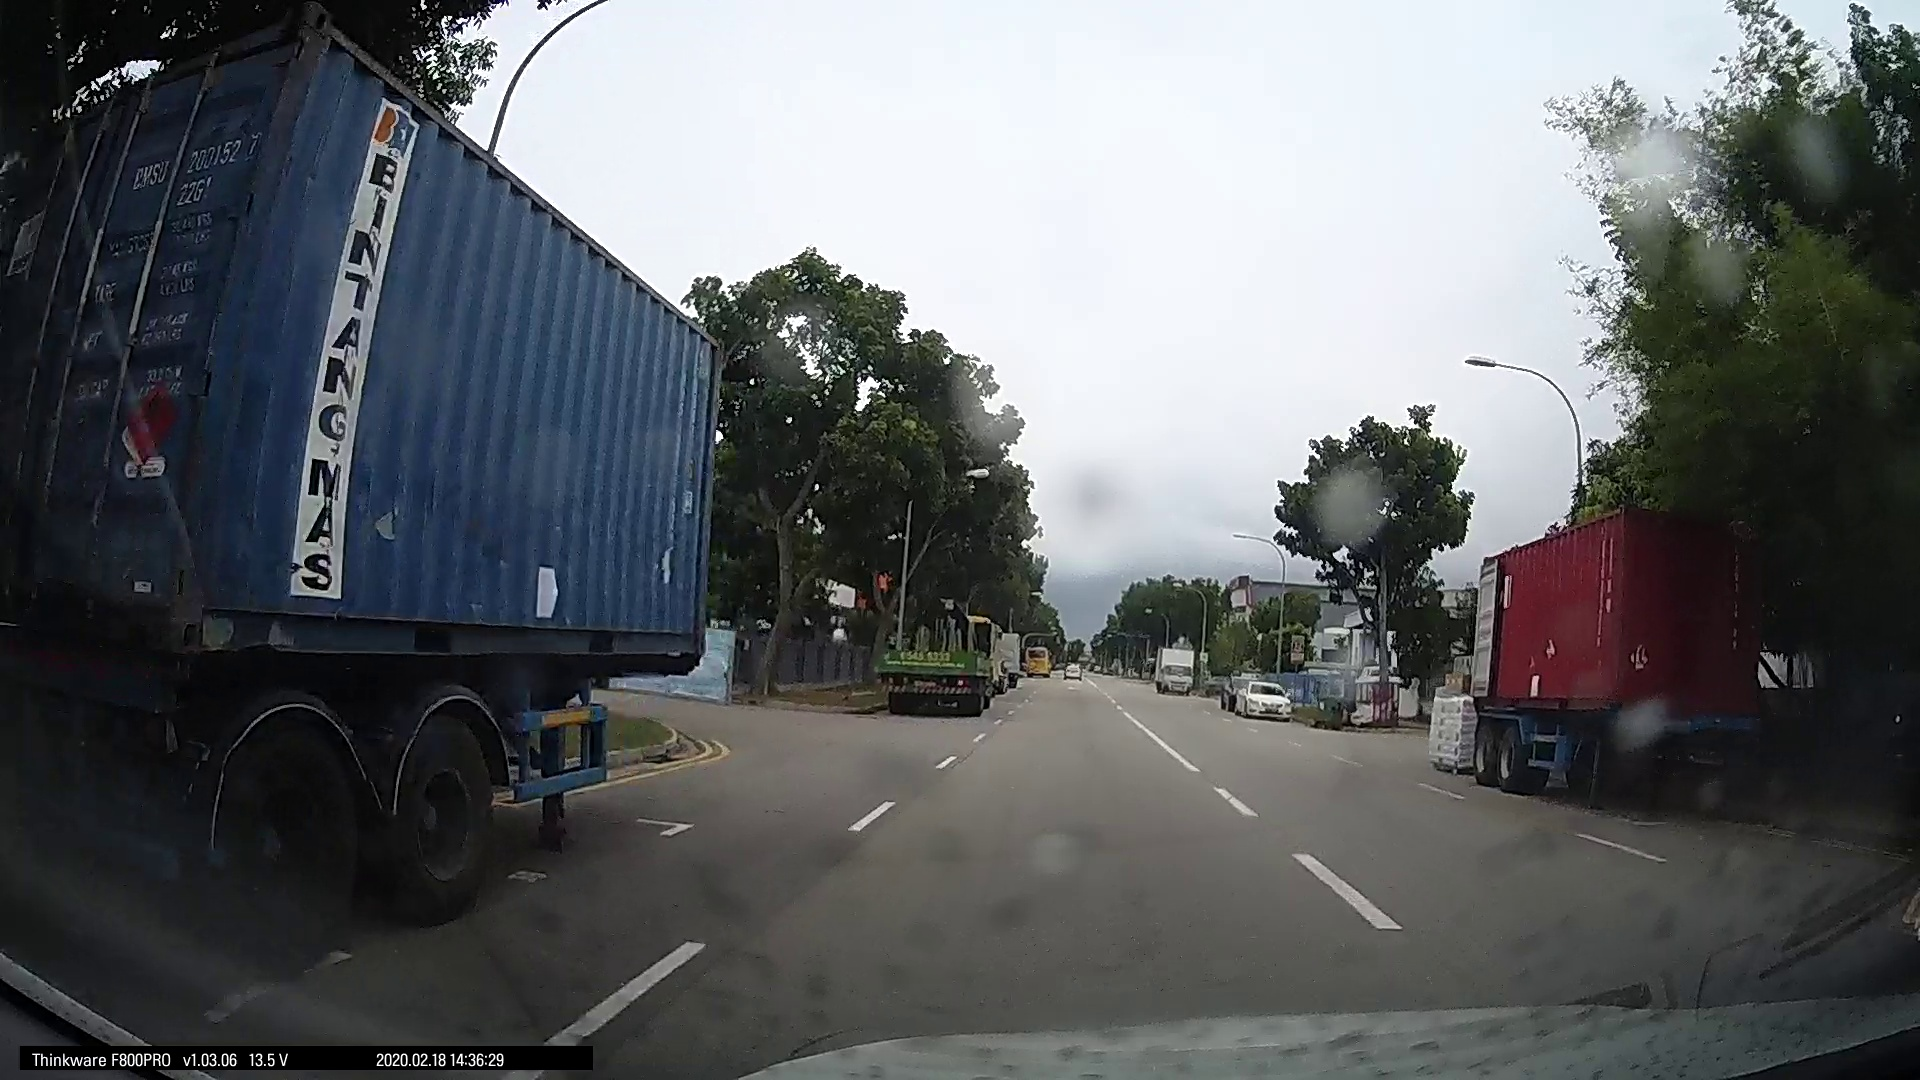Heavy Vehicle: (11, 29, 705, 947), (1451, 489, 1821, 798)
Light Vehicle: (1222, 670, 1294, 723), (1150, 645, 1196, 694)
